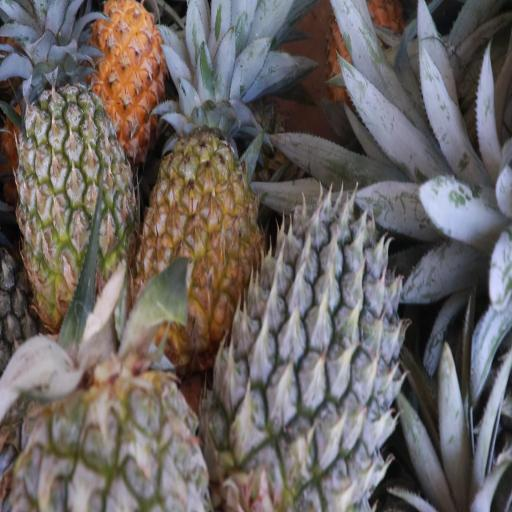------------------------------: (21, 75, 130, 307)
Pineapple - v8 v1: (141, 104, 250, 353), (69, 0, 160, 122)
